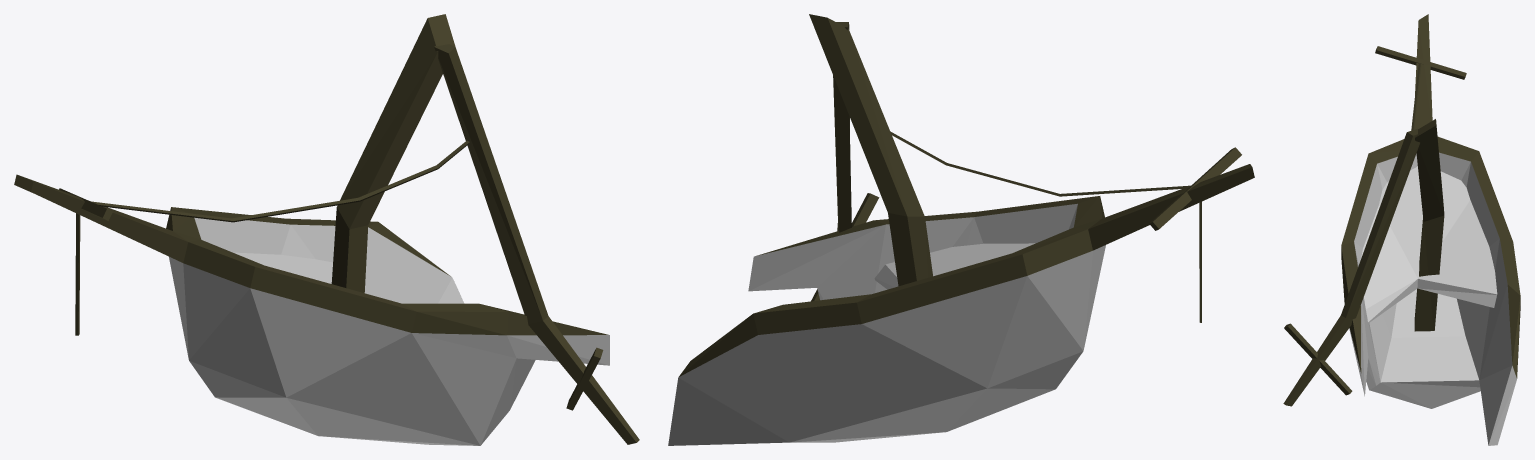
File: OW_SHIPWRECK_BUG.OBJ
3 renders of one model, left to right at view 1: azimuth 30°, elevation 25°; view 2: azimuth 150°, elevation 25°; view 3: azimuth 270°, elevation 25°, orthographic. The views are drawn at different scales.
Parts seen in each view (by area): view 1: OW_SHIPWRECK_BUG; view 2: OW_SHIPWRECK_BUG; view 3: OW_SHIPWRECK_BUG.
Part boxes in pixels (x1,y1,x2,y2): OW_SHIPWRECK_BUG: (14, 14, 639, 445); OW_SHIPWRECK_BUG: (668, 14, 1254, 445); OW_SHIPWRECK_BUG: (1283, 14, 1520, 445).
Bounding box in the file's own units: 21.9 × 16.15 × 11.93.
